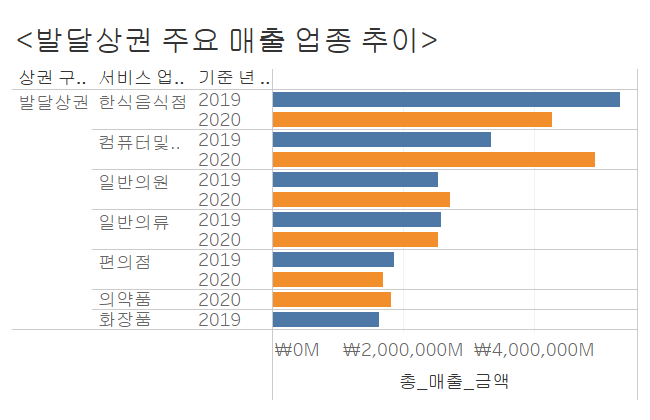

The dashboard page shown, as its layout file describes it:
{"tool":"tableau","page":{"name":"대시보드 3","canvas":[650,340],"ordinal":2},"visuals":[{"type":"worksheet","title":"2019-2020","mark":"Automatic","rows":["상권_구분_코드","상권_구분_코드_명","기준_년_코드"],"cols":["Calculation_1875467832722706446"],"box":[8,8,634,324]}]}

Visuals, with their boxes on the page's 650x340 design canvas (x1, y1, x2, y2). These are canvas units, not pixel positions in the 650x420 screenshot, which may show the page scaled, cropped or inside an application window:
"2019-2020" worksheet: x1=8 y1=8 x2=642 y2=332
